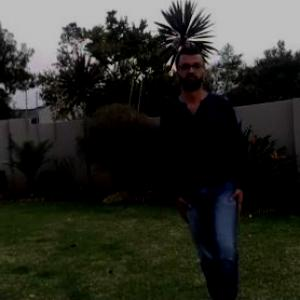follow: (158, 10, 254, 299)
